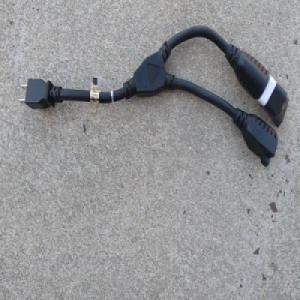Wire: (16, 23, 289, 168)
